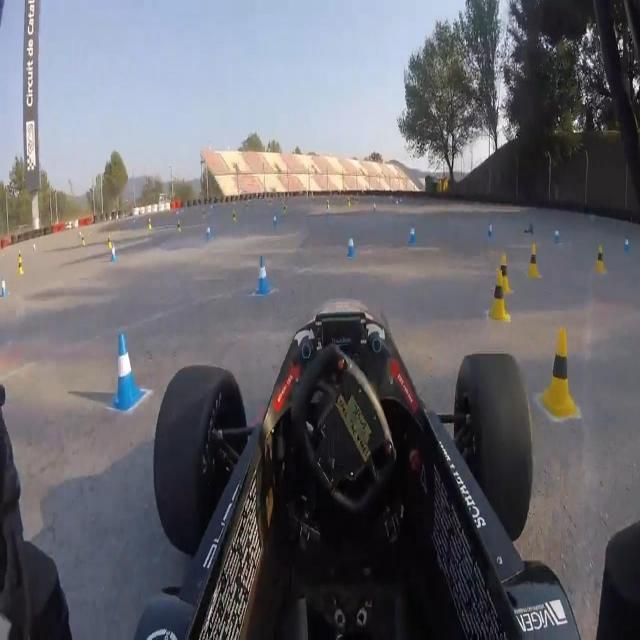blue_cone: (113, 330, 147, 412), (256, 254, 272, 296), (347, 233, 357, 258), (408, 221, 417, 245), (111, 244, 117, 262)
yellow_cone: (542, 328, 576, 419), (488, 269, 509, 322), (496, 252, 513, 297), (526, 243, 541, 279), (595, 243, 606, 274)
